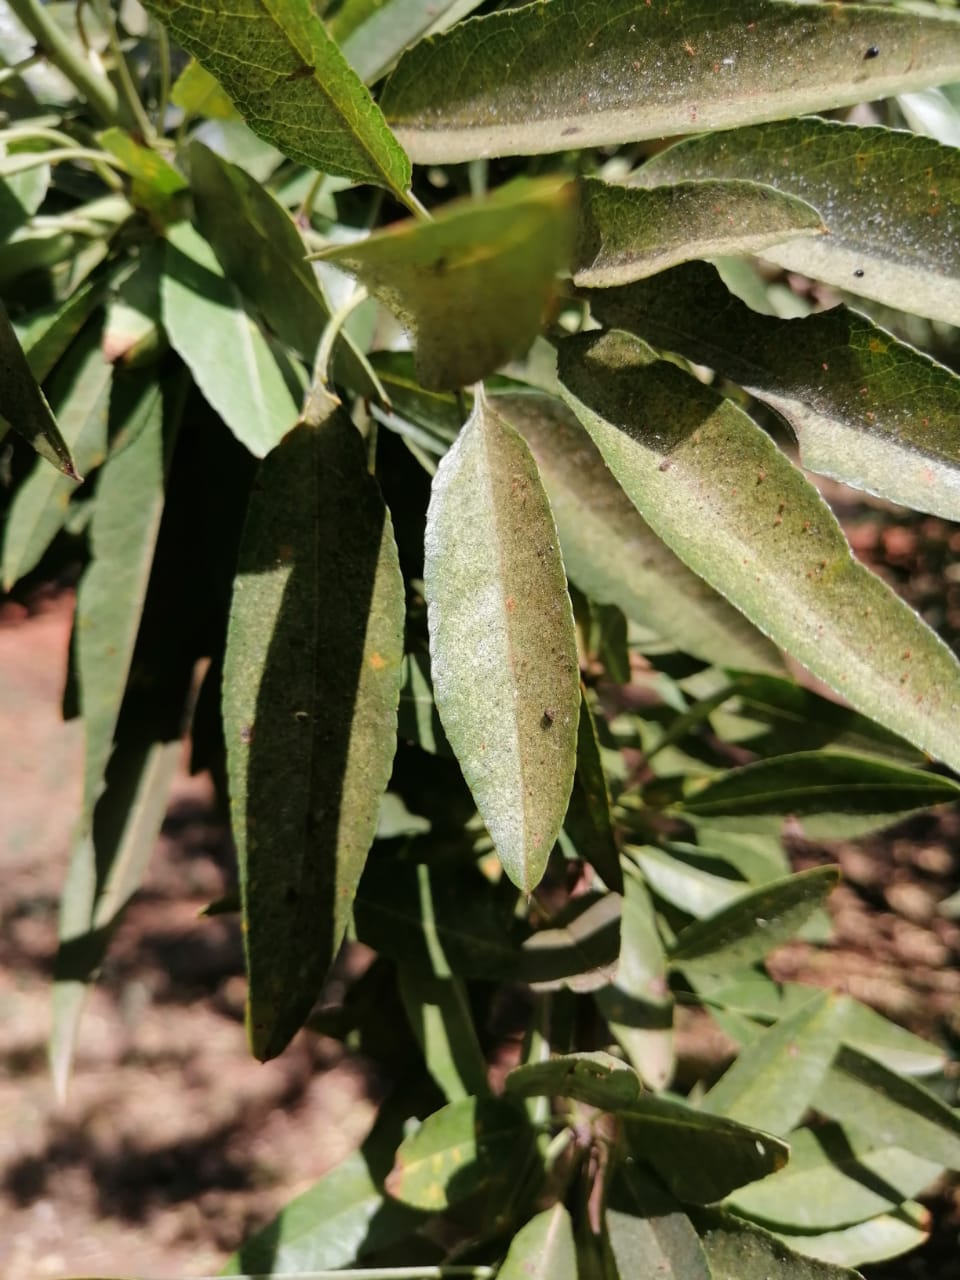acariens: (563, 329, 960, 775), (378, 1, 960, 168), (422, 403, 582, 894), (632, 113, 960, 330)
